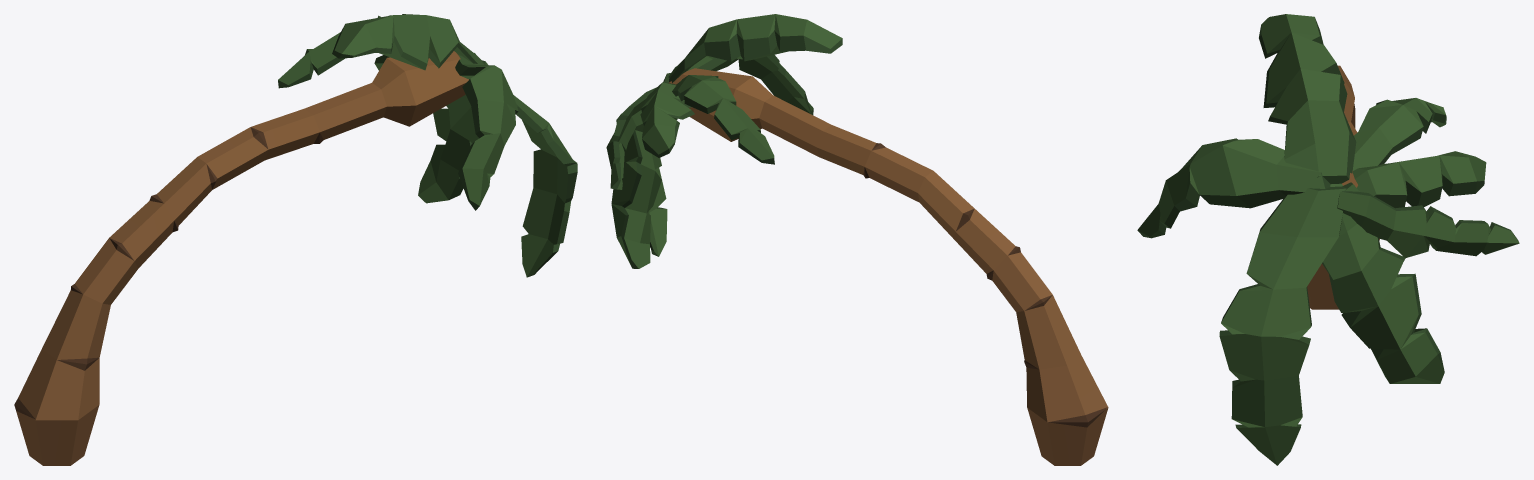
The model's file is PalmTree_01.glb.
3 views of the same model, side by side, from view 1: azimuth 30°, elevation 25°; view 2: azimuth 150°, elevation 25°; view 3: azimuth 270°, elevation 25° (orthographic). The views are drawn at different scales.
Parts seen in each view (by area): view 1: PalmTree_01; view 2: PalmTree_01; view 3: PalmTree_01.
Boxes of the visible parts, x1,y1,x2,y2 form: PalmTree_01: (14,14,577,465); PalmTree_01: (606,14,1108,465); PalmTree_01: (1137,14,1519,465).
Size of what is drawn, in the model's own units: 9.06 by 6.28 by 4.76.
1 material, 1 textured.
